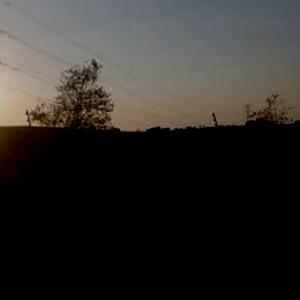follow: (103, 145, 173, 299)
